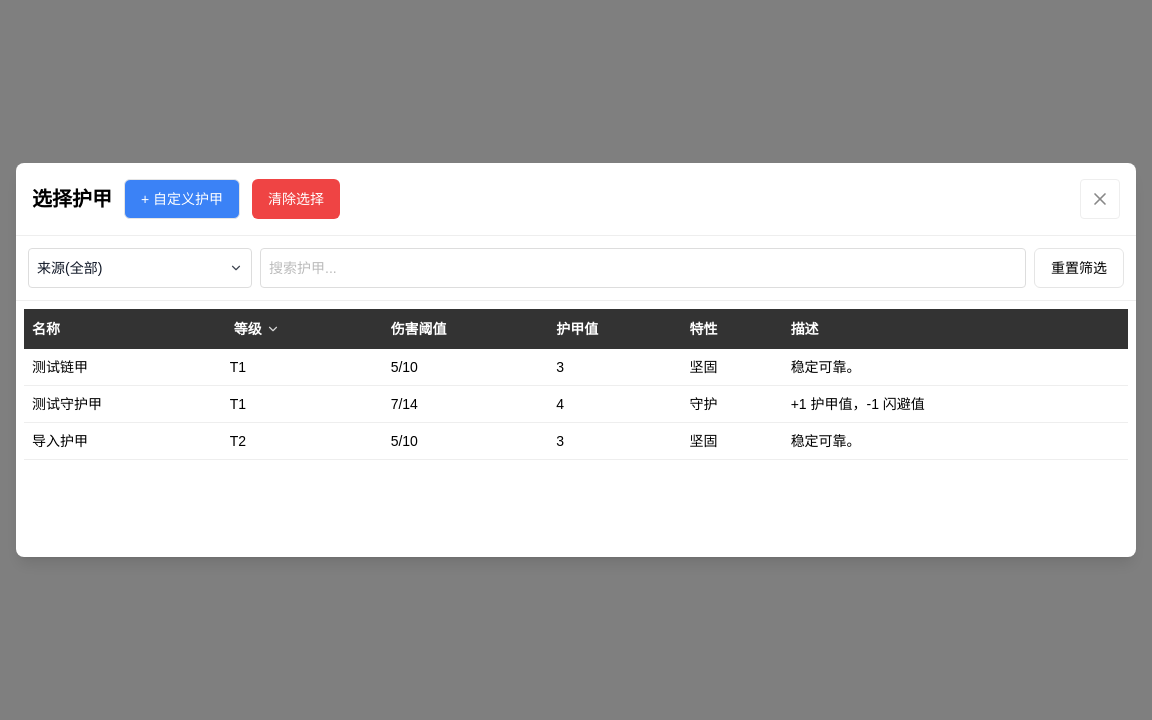
equipment selection modals › fills a custom armor draft from a clicked template instead of selecting immediately
Click the button "+ 自定义护甲" at (182, 199), box x1=124 y1=179 x2=240 y2=219
(page scrolled)
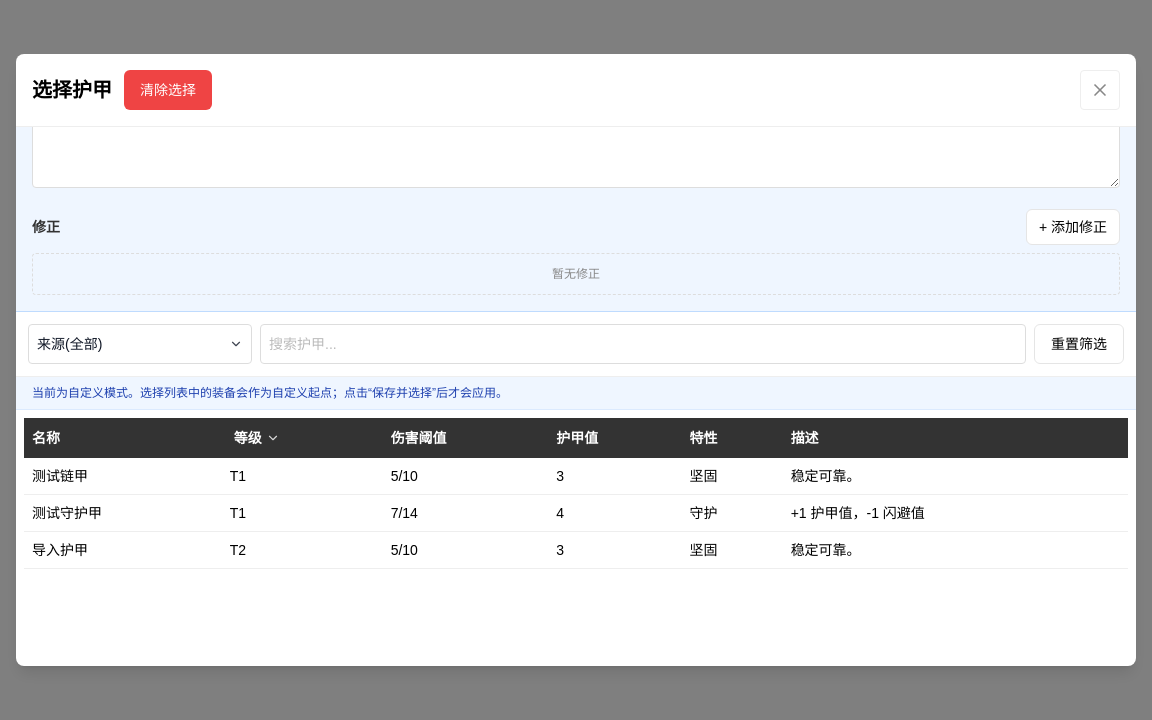
Click the text "测试守护甲" at (67, 513), box x1=24 y1=494 x2=222 y2=532
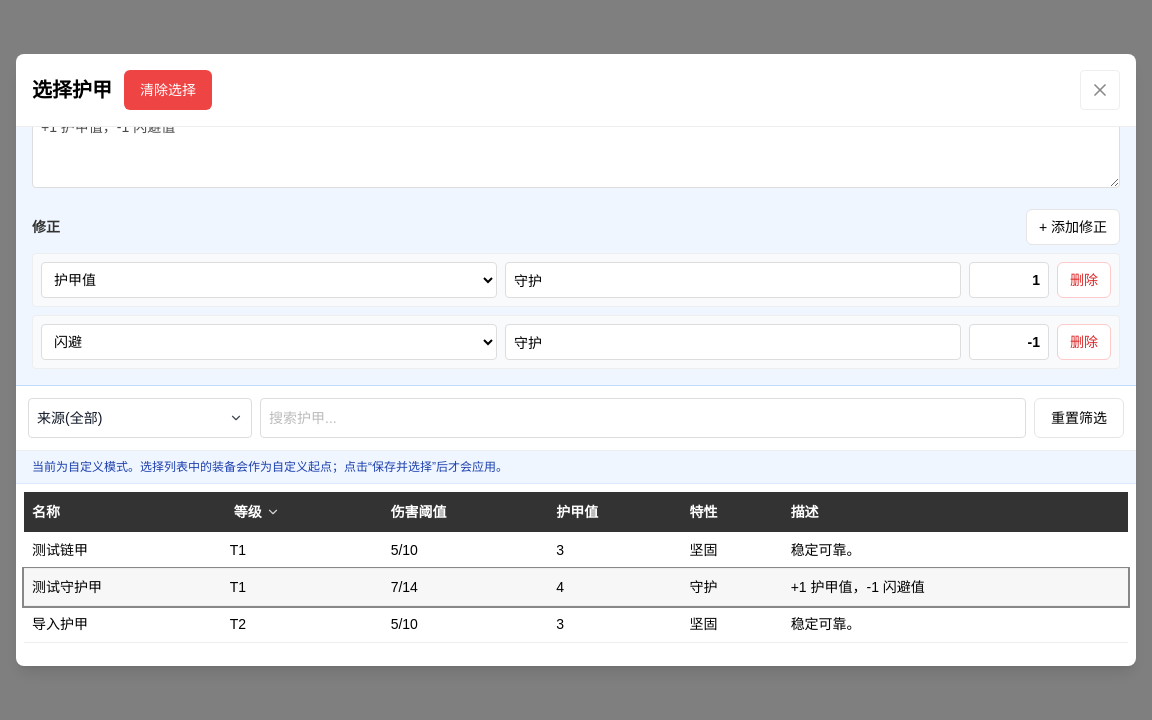
Result: the text box showing "+1 护甲值，-1 闪避值" is shown at x1=32 y1=127 x2=1120 y2=188
Result: the 1st field showing "1" is shown at x1=969 y1=262 x2=1049 y2=298
Result: the 2nd field showing "-1" is shown at x1=969 y1=324 x2=1049 y2=360
